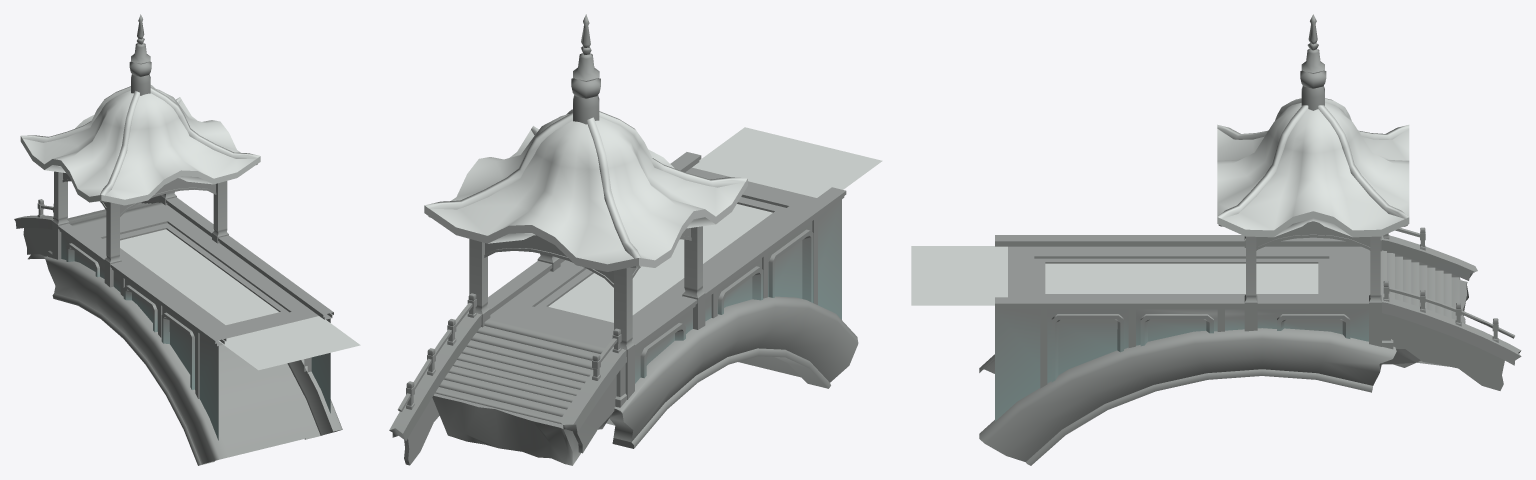
3 views of the same model, side by side, from view 1: azimuth 30°, elevation 25°; view 2: azimuth 150°, elevation 25°; view 3: azimuth 270°, elevation 25° (orthographic). The views are drawn at different scales.
Parts seen in each view (by area): view 1: G:\FFXIV-MapTools\exports\e3f2\bg\ex2\02_est_e3\fld\e3f2\bgp (×11); view 2: G:\FFXIV-MapTools\exports\e3f2\bg\ex2\02_est_e3\fld\e3f2\bgp (×11); view 3: G:\FFXIV-MapTools\exports\e3f2\bg\ex2\02_est_e3\fld\e3f2\bgp (×11).
Boxes of the visible parts, left/top/right/bottom form: G:\FFXIV-MapTools\exports\e3f2\bg\ex2\02_est_e3\fld\e3f2\bgp (×11): left=14, top=14, right=360, bottom=465; G:\FFXIV-MapTools\exports\e3f2\bg\ex2\02_est_e3\fld\e3f2\bgp (×11): left=389, top=14, right=882, bottom=465; G:\FFXIV-MapTools\exports\e3f2\bg\ex2\02_est_e3\fld\e3f2\bgp (×11): left=911, top=14, right=1521, bottom=465.
Bounding box in the file's own units: 16.25 × 34.09 × 45.27.
